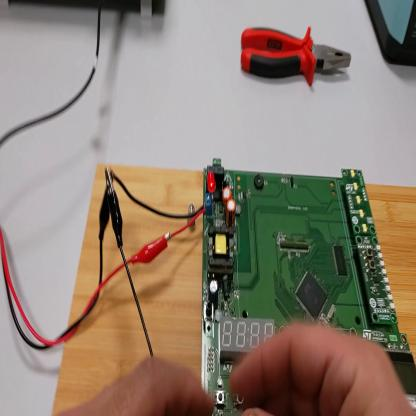hand: (228, 325, 416, 415), (57, 358, 216, 415)
pliers: (240, 23, 353, 89)
welder station: (367, 2, 416, 67)
working area: (59, 166, 416, 414)
